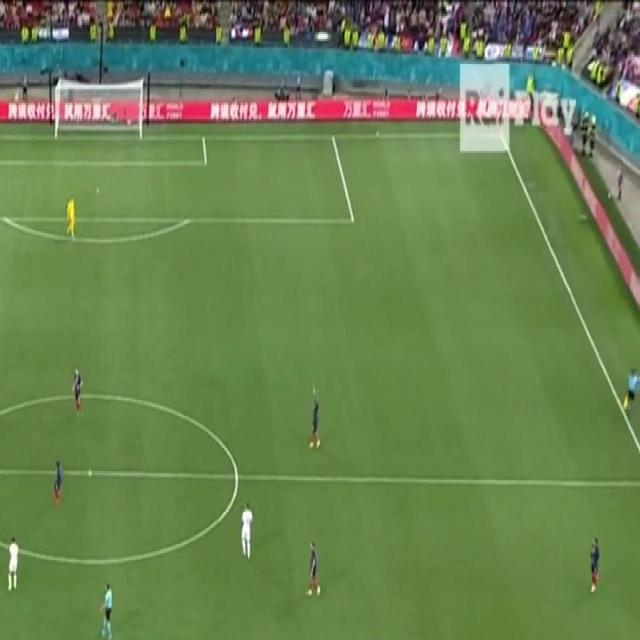player-white: (307, 382, 322, 454), (97, 579, 113, 640), (238, 501, 254, 562), (305, 539, 321, 599), (6, 534, 20, 592), (71, 365, 85, 419), (625, 366, 639, 418), (588, 536, 600, 596), (52, 458, 64, 508), (65, 195, 77, 240), (361, 638, 378, 640)
